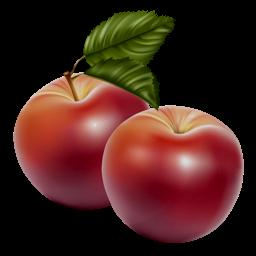Apple Ripe: (83, 100, 256, 245), (10, 52, 154, 217)
